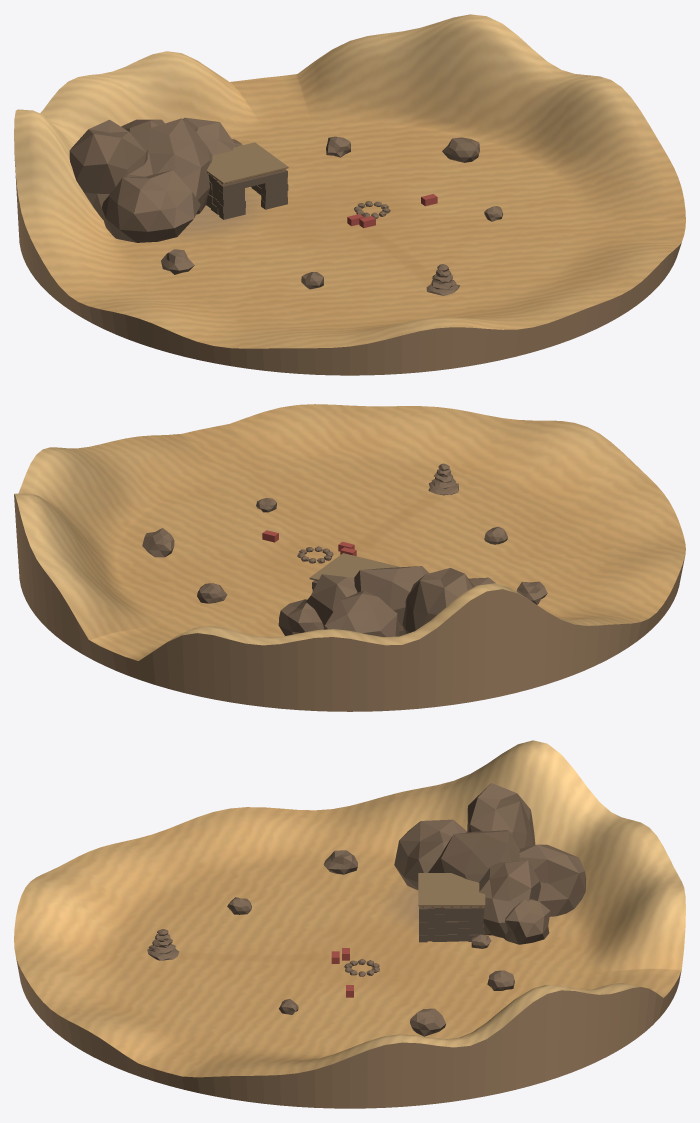
3 views of the same model, one above another, from view 1: azimuth 30°, elevation 25°; view 2: azimuth 150°, elevation 25°; view 3: azimuth 270°, elevation 25° (orthographic).
Visible parts, largest first — view 1: Ground, Plinth, Icosphere.001, Icosphere.003, Icosphere, Thatch, Icosphere.002, Icosphere.011, Icosphere.008; view 2: Ground, Plinth, Icosphere.003, Icosphere.004, Icosphere, Icosphere.002, Icosphere.005, Thatch, Icosphere.011, Icosphere.007, Icosphere.008; view 3: Ground, Plinth, Icosphere.004, Icosphere, Icosphere.002, Icosphere.003, Icosphere.001, Thatch, Icosphere.005, Icosphere.011, Icosphere.008.
Boxes of the visible parts, left/top/right/bottom form: Ground: left=14, top=14, right=685, bottom=348; Plinth: left=14, top=160, right=681, bottom=375; Icosphere.001: left=102, top=170, right=200, bottom=242; Icosphere.003: left=69, top=119, right=147, bottom=219; Icosphere: left=126, top=118, right=212, bottom=214; Thatch: left=206, top=142, right=288, bottom=183; Icosphere.002: left=183, top=117, right=236, bottom=155; Icosphere.011: left=442, top=137, right=479, bottom=162; Icosphere.008: left=161, top=249, right=194, bottom=274; Ground: left=14, top=404, right=685, bottom=660; Plinth: left=14, top=494, right=684, bottom=711; Icosphere.003: left=402, top=568, right=474, bottom=634; Icosphere.004: left=324, top=590, right=399, bottom=636; Icosphere: left=354, top=566, right=429, bottom=635; Icosphere.002: left=305, top=574, right=357, bottom=629; Icosphere.005: left=278, top=599, right=323, bottom=635; Thatch: left=309, top=553, right=400, bottom=580; Icosphere.011: left=142, top=528, right=174, bottom=557; Icosphere.007: left=197, top=583, right=227, bottom=603; Icosphere.008: left=516, top=581, right=547, bottom=604; Ground: left=14, top=740, right=685, bottom=1077; Plinth: left=16, top=958, right=681, bottom=1108; Icosphere.004: left=518, top=844, right=586, bottom=916; Icosphere: left=428, top=830, right=519, bottom=882; Icosphere.002: left=479, top=860, right=540, bottom=937; Icosphere.003: left=467, top=783, right=535, bottom=848; Icosphere.001: left=394, top=819, right=467, bottom=890; Thatch: left=418, top=873, right=485, bottom=906; Icosphere.005: left=504, top=899, right=550, bottom=944; Icosphere.011: left=410, top=1008, right=445, bottom=1036; Icosphere.008: left=323, top=850, right=357, bottom=874.
Bounding box in the file's own units: 33 × 6.75 × 33.
Materials: 8 (2 with a texture image).
